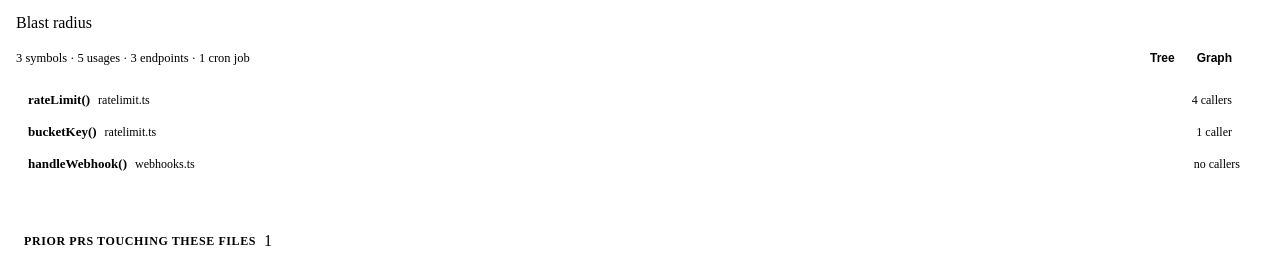
it: BlastRadiusCard — Prior PRs › is collapsed by default and reveals #415 with its overlap count on expand
Expected: the text "#415" is not shown
Click the button with aria-label "Toggle prior PRs list" at (148, 240), box [24, 232, 272, 249]
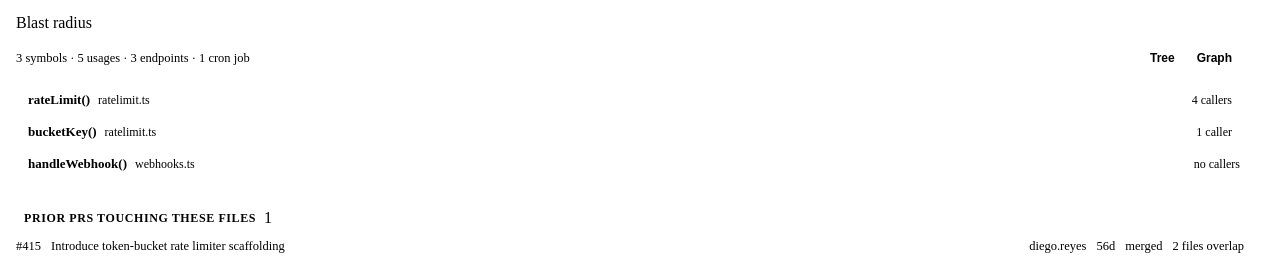
Expected: the text "#415" is shown, [16, 239, 41, 254]
Expected: the text "2 files overlap" is shown, [1172, 239, 1244, 254]
